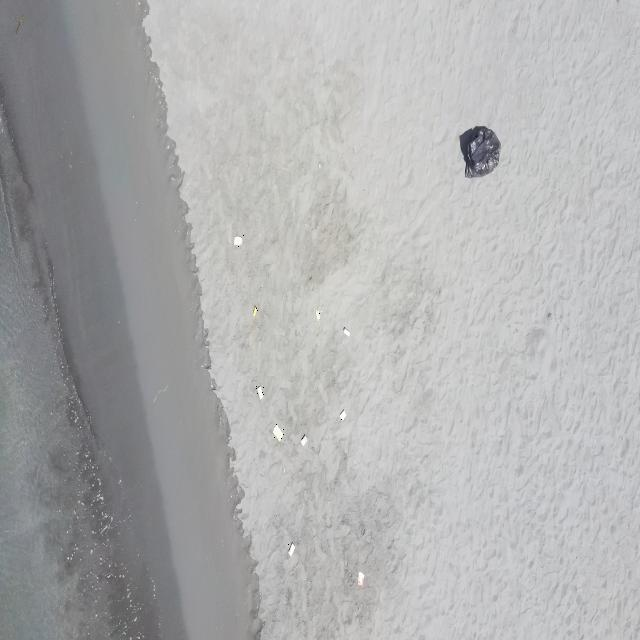retort-pouch: (272, 424, 284, 444), (356, 568, 366, 584), (232, 235, 244, 247), (299, 434, 310, 447), (255, 385, 265, 399), (287, 541, 297, 555), (339, 408, 348, 422), (342, 325, 350, 339), (252, 302, 258, 318), (315, 309, 322, 321)
